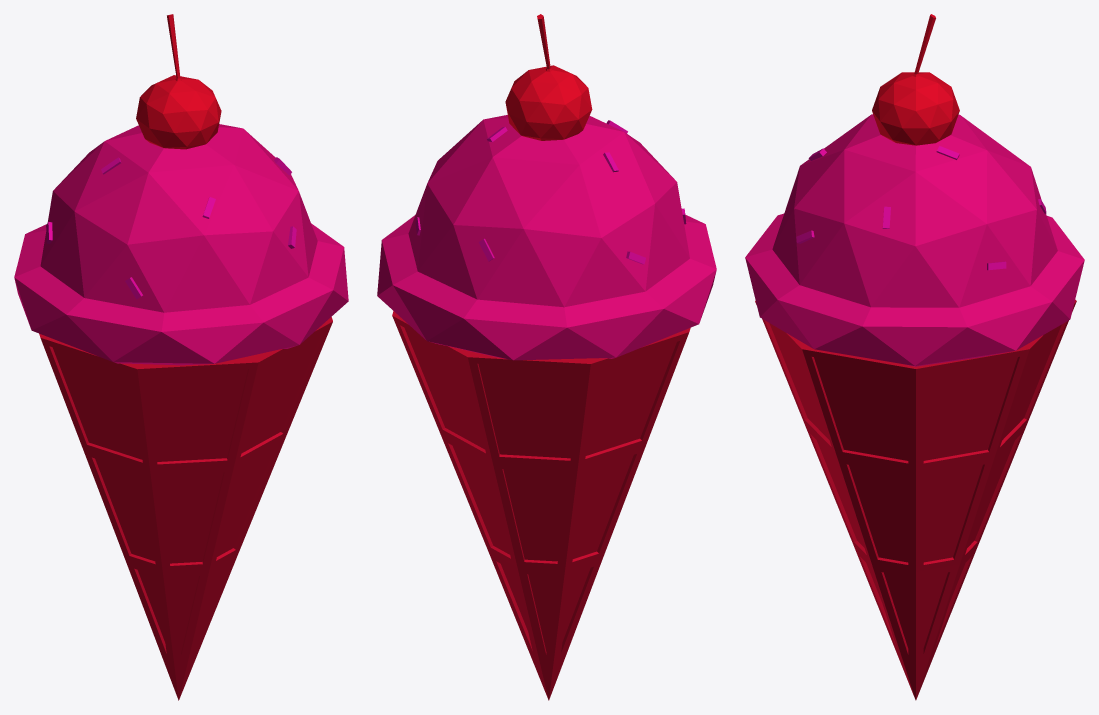
The model's file is IceCreamCone_01.fbx.
The picture shows the model from 3 angles, left to right: view 1: azimuth 30°, elevation 25°; view 2: azimuth 150°, elevation 25°; view 3: azimuth 270°, elevation 25°; orthographic projection.
Visible parts, largest first — view 1: IceCreamCone_01; view 2: IceCreamCone_01; view 3: IceCreamCone_01.
Boxes of the visible parts, x1,y1,x2,y2 form: IceCreamCone_01: (14,14,348,700); IceCreamCone_01: (377,14,716,700); IceCreamCone_01: (745,14,1084,700).
Bounding box in the file's own units: 3.43 × 7.75 × 3.48.
